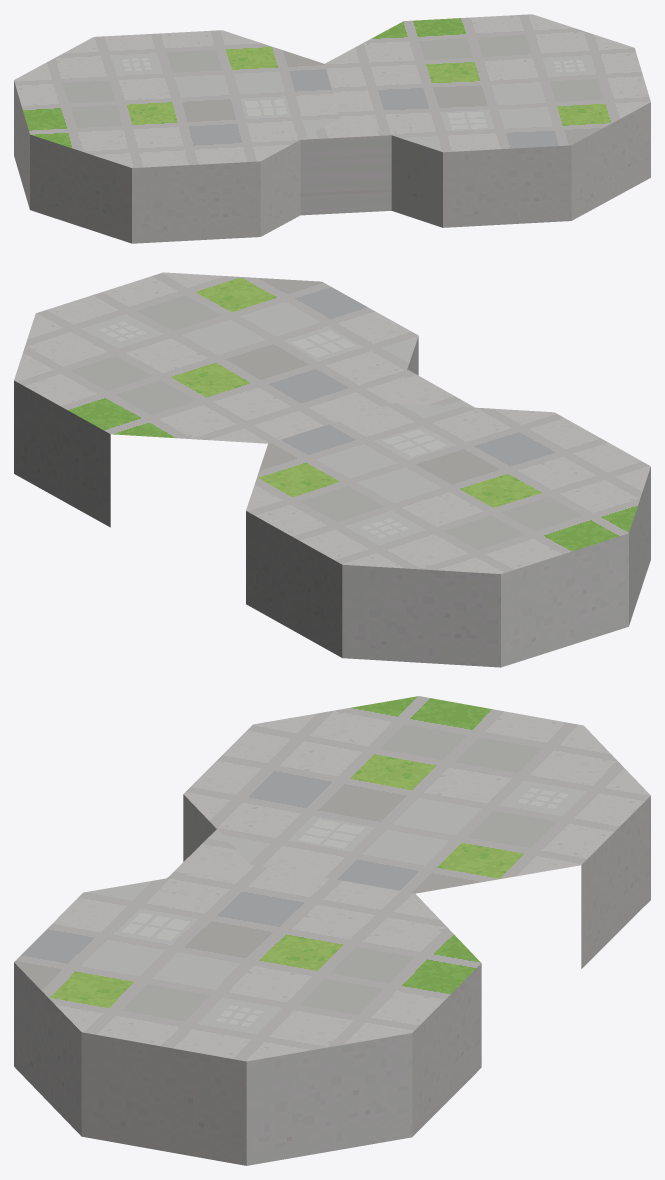
The model's file is kd_connection_world-outer_surface_11_1.glb.
3 renders of one model, top to bottom at view 1: azimuth 30°, elevation 25°; view 2: azimuth 150°, elevation 25°; view 3: azimuth 270°, elevation 25°, orthographic. The views are drawn at different scales.
Parts seen in each view (by area): view 1: kd_connection_world-outer_surface_11_1; view 2: kd_connection_world-outer_surface_11_1; view 3: kd_connection_world-outer_surface_11_1.
Part boxes in pixels (x1,y1,x2,y2): kd_connection_world-outer_surface_11_1: (14, 14, 650, 243); kd_connection_world-outer_surface_11_1: (14, 272, 650, 667); kd_connection_world-outer_surface_11_1: (14, 696, 650, 1165).
Bounding box in the file's own units: 276 × 36.74 × 203.
1 material, 1 textured.
